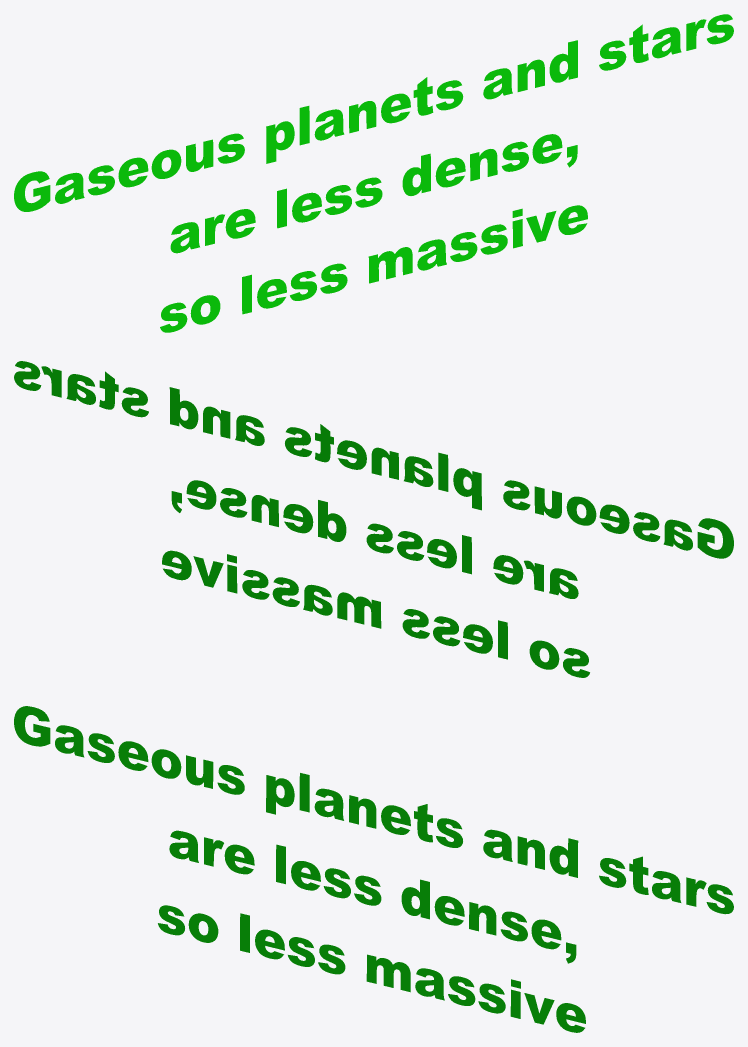
The model's file is tutorial_4.dae.
The picture shows the model from 3 angles, top to bottom: view 1: azimuth 30°, elevation 25°; view 2: azimuth 150°, elevation 25°; view 3: azimuth 330°, elevation 25°; orthographic projection.
Visible parts, largest first — view 1: Gaseous_planets_ (×38); view 2: Gaseous_planets_ (×38); view 3: Gaseous_planets_ (×38).
Part boxes in pixels (x1,y1,x2,y2): Gaseous_planets_ (×38): [14, 14, 733, 332]; Gaseous_planets_ (×38): [14, 361, 733, 677]; Gaseous_planets_ (×38): [14, 706, 733, 1032].
Bounding box in the file's own units: 3981 × 12.21 × 1017.
